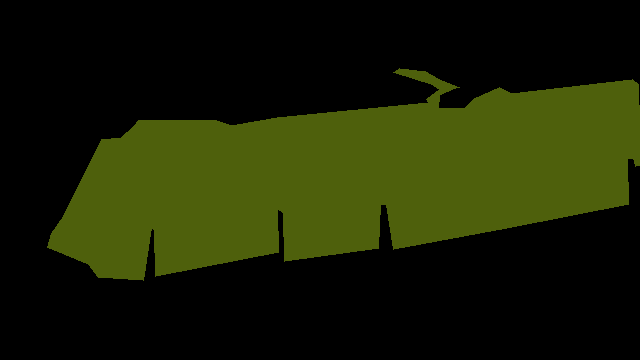Train: (47, 68, 640, 281)
